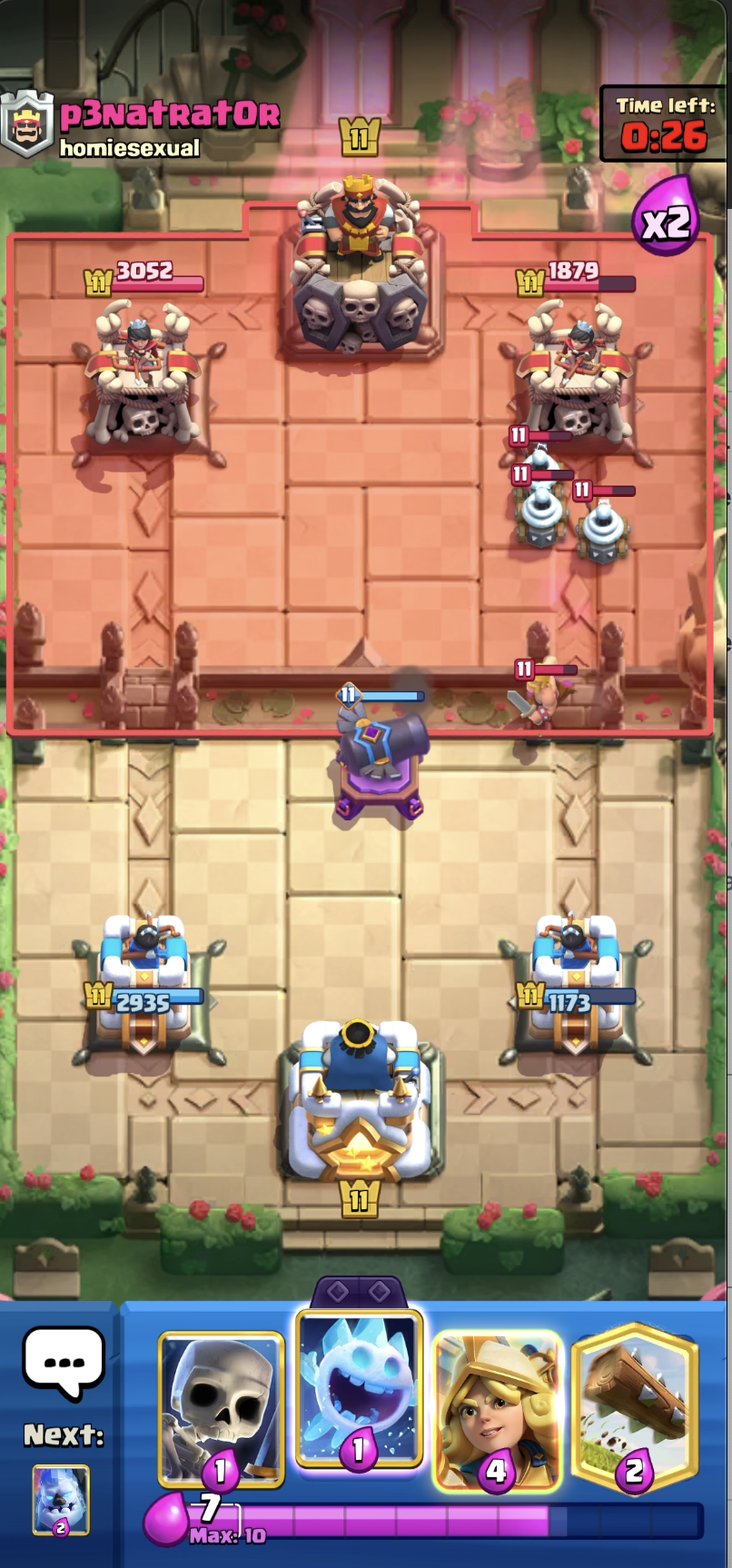cannon: (320, 677, 435, 821)
